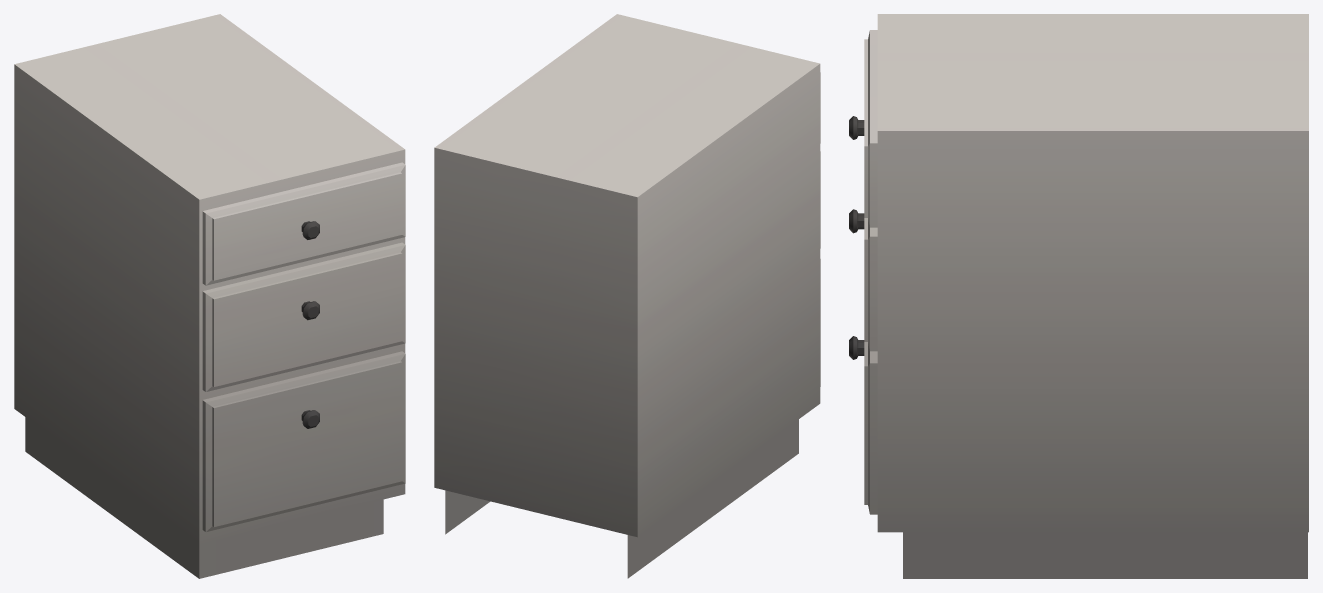
The model's file is Unit_50cm.fbx.
3 renders of one model, left to right at view 1: azimuth 30°, elevation 25°; view 2: azimuth 150°, elevation 25°; view 3: azimuth 270°, elevation 25°, orthographic. The views are drawn at different scales.
Visible parts, largest first — view 1: Unit_50cm; view 2: Unit_50cm; view 3: Unit_50cm.
Part boxes in pixels (left/top/right/bottom): Unit_50cm: left=14, top=14, right=405, bottom=578; Unit_50cm: left=434, top=14, right=820, bottom=578; Unit_50cm: left=849, top=14, right=1308, bottom=578.
Size of the model in its own units: 49.76 by 90 by 82.62.
